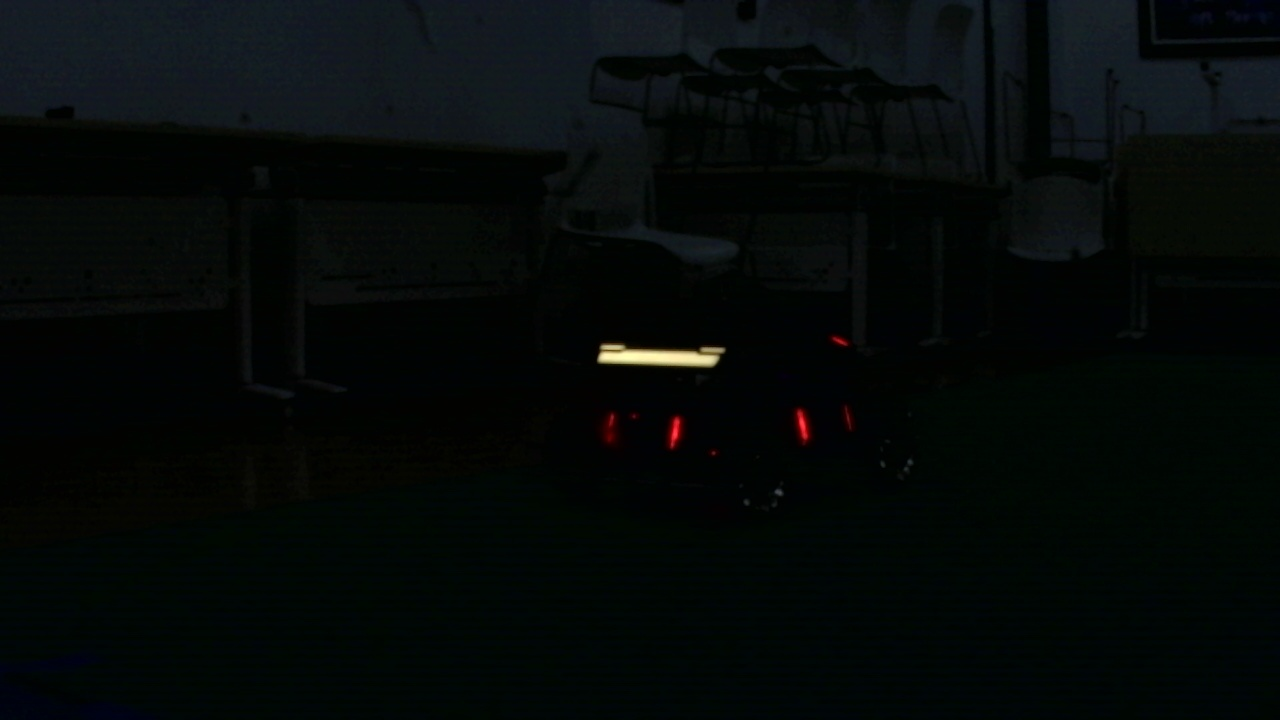lamp: (792, 407, 811, 442), (667, 413, 686, 446)
pair1: (604, 411, 686, 449), (603, 408, 616, 439)
